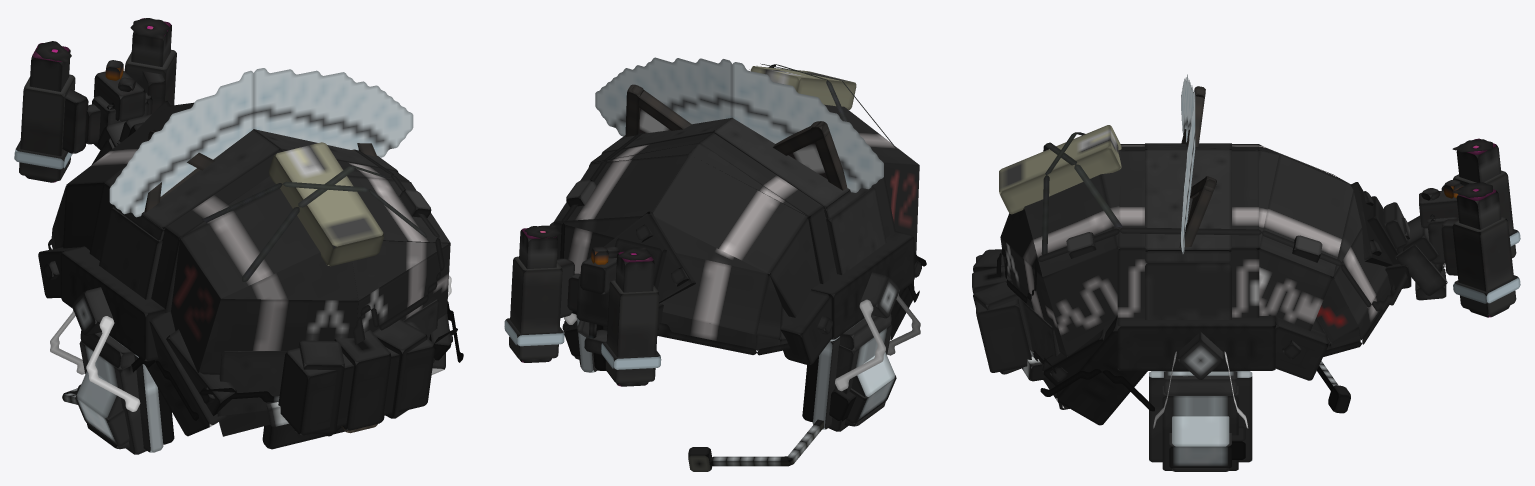
Rendered from maid_h.obj.
The picture shows the model from 3 angles, left to right: view 1: azimuth 30°, elevation 25°; view 2: azimuth 150°, elevation 25°; view 3: azimuth 270°, elevation 25°; orthographic projection. The views are drawn at different scales.
Parts seen in each view (by area): view 1: plane; view 2: plane; view 3: plane.
Boxes of the visible parts, x1=… form: plane: x1=14, y1=18, x2=463, y2=454; plane: x1=504, y1=57, x2=926, y2=471; plane: x1=972, y1=74, x2=1520, y2=471.
Size of the model in its own units: 1.01 by 0.8532 by 1.26.
